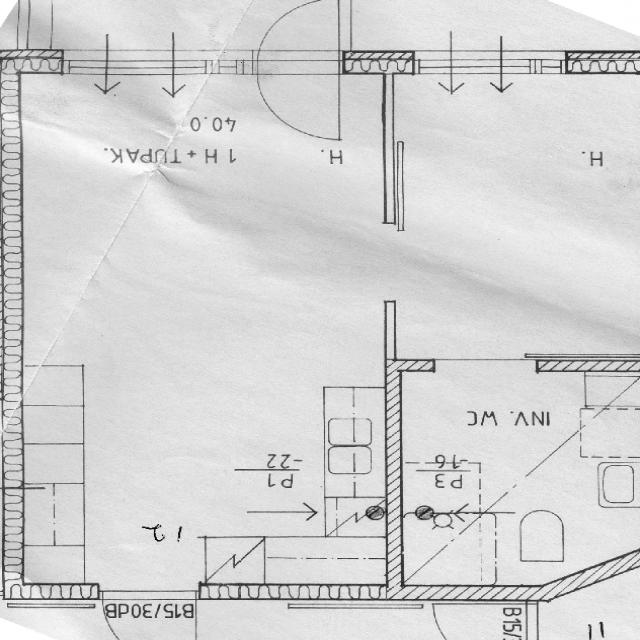door: (256, 50, 338, 136), (256, 0, 338, 73), (102, 591, 196, 640)
